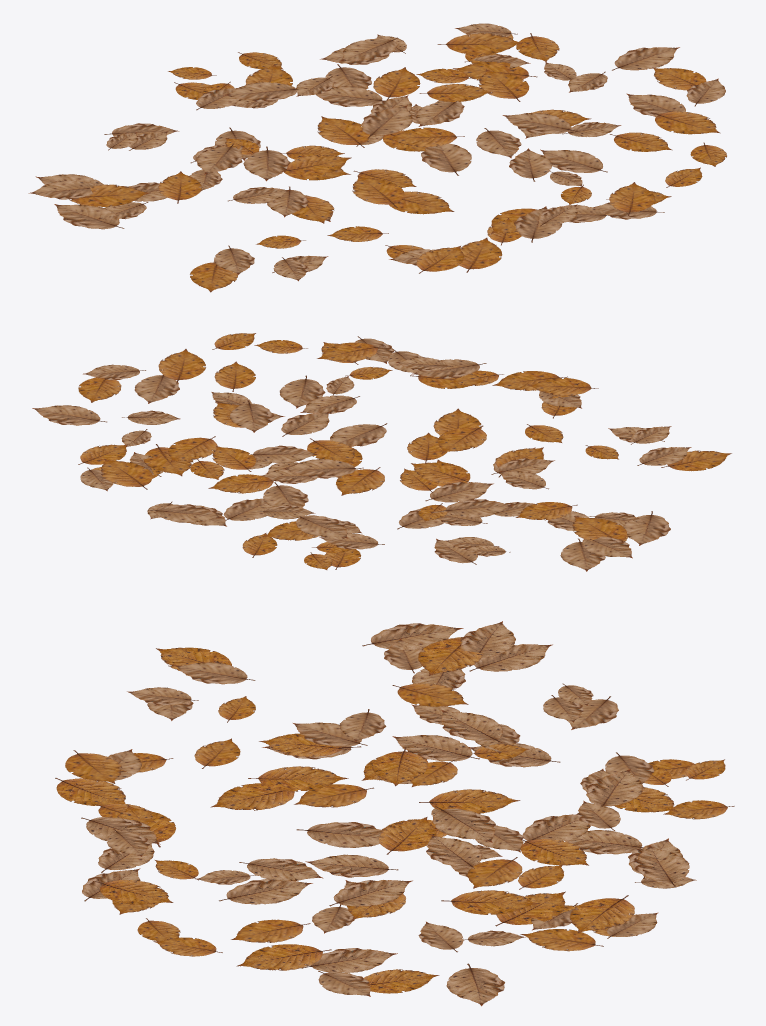
File: Beech_LeafLitter_Patch_01_LOD2.fbx
The picture shows the model from 3 angles, top to bottom: view 1: azimuth 30°, elevation 25°; view 2: azimuth 150°, elevation 25°; view 3: azimuth 270°, elevation 25°; orthographic projection. The views are drawn at different scales.
Visible parts, largest first — view 1: Beech_LeafLitter_Patch_01_LOD2_Mesh; view 2: Beech_LeafLitter_Patch_01_LOD2_Mesh; view 3: Beech_LeafLitter_Patch_01_LOD2_Mesh.
Part boxes in pixels (x1,y1,x2,y2): Beech_LeafLitter_Patch_01_LOD2_Mesh: [28, 23, 726, 292]; Beech_LeafLitter_Patch_01_LOD2_Mesh: [32, 333, 731, 571]; Beech_LeafLitter_Patch_01_LOD2_Mesh: [55, 621, 734, 1006].
Bounding box in the file's own units: 149 × 1.49 × 114.
Materials: 1 (1 with a texture image).
